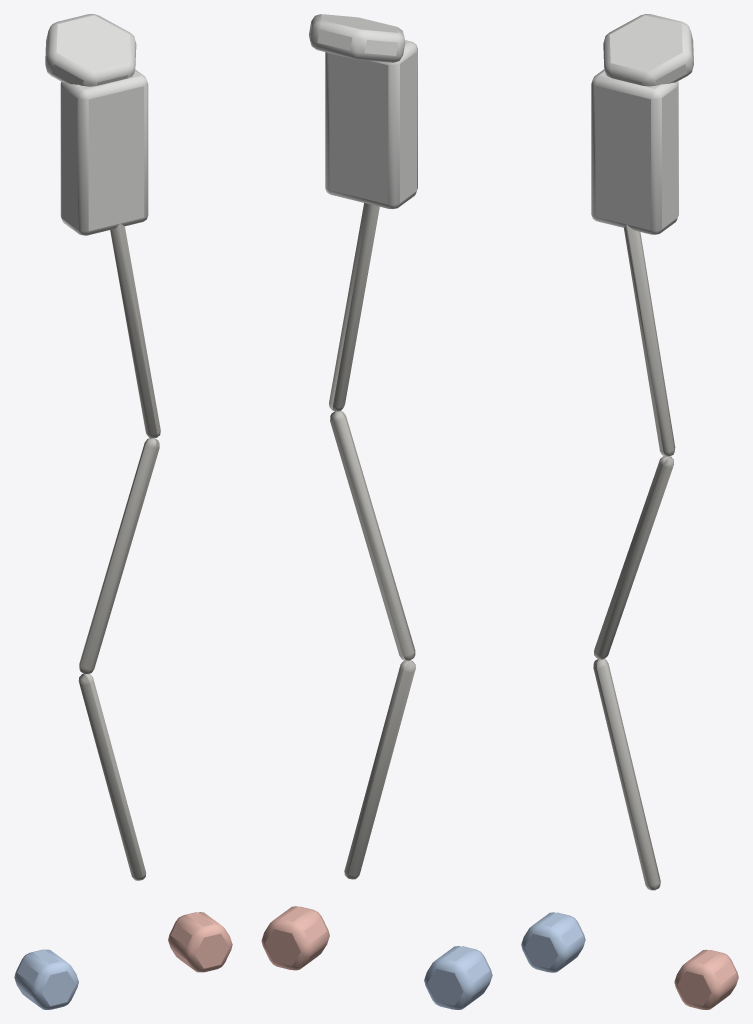
Rendered from VoiSen.glb.
The picture shows the model from 3 angles, left to right: view 1: azimuth 30°, elevation 25°; view 2: azimuth 150°, elevation 25°; view 3: azimuth 330°, elevation 25°; orthographic projection. The views are drawn at different scales.
Visible parts, largest first — view 1: geometry_0; view 2: geometry_0; view 3: geometry_0.
Boxes of the visible parts, bbox=[...] form: geometry_0: bbox=[14, 14, 232, 1009]; geometry_0: bbox=[261, 14, 492, 1009]; geometry_0: bbox=[521, 14, 738, 1009].
Size of the model in its own units: 0.1434 by 0.6403 by 0.0743.
1 material, 1 textured.
